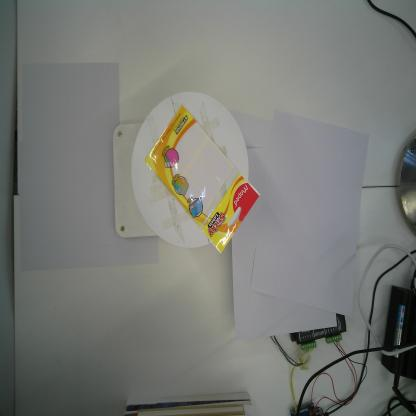Stationery: (144, 103, 261, 257)
